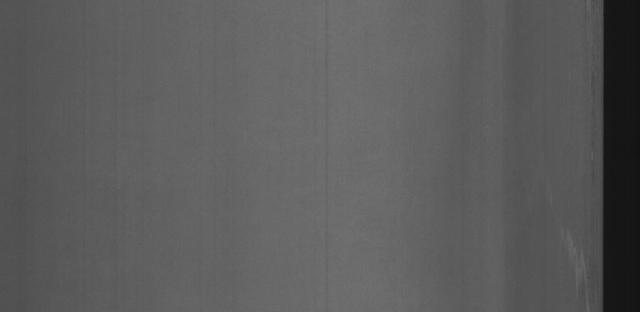silk_spot: (542, 225, 594, 300)
